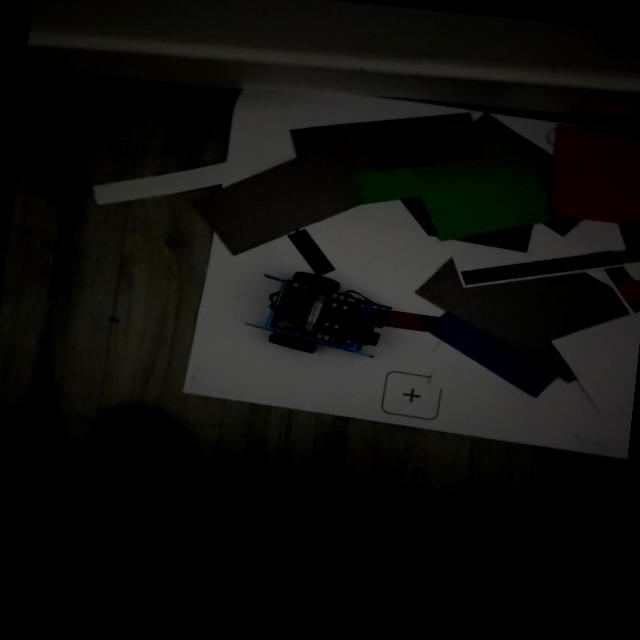mbot-detection: (236, 262, 399, 364)
